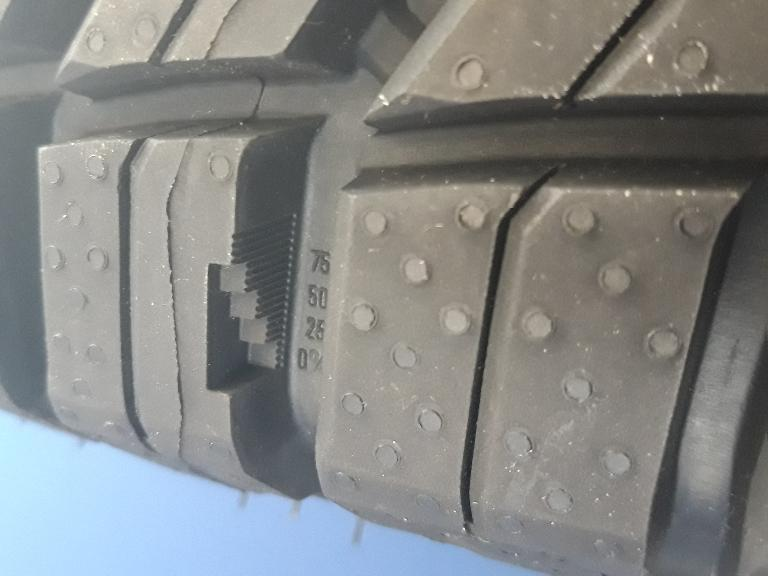temoin:100: (197, 210, 303, 406)
